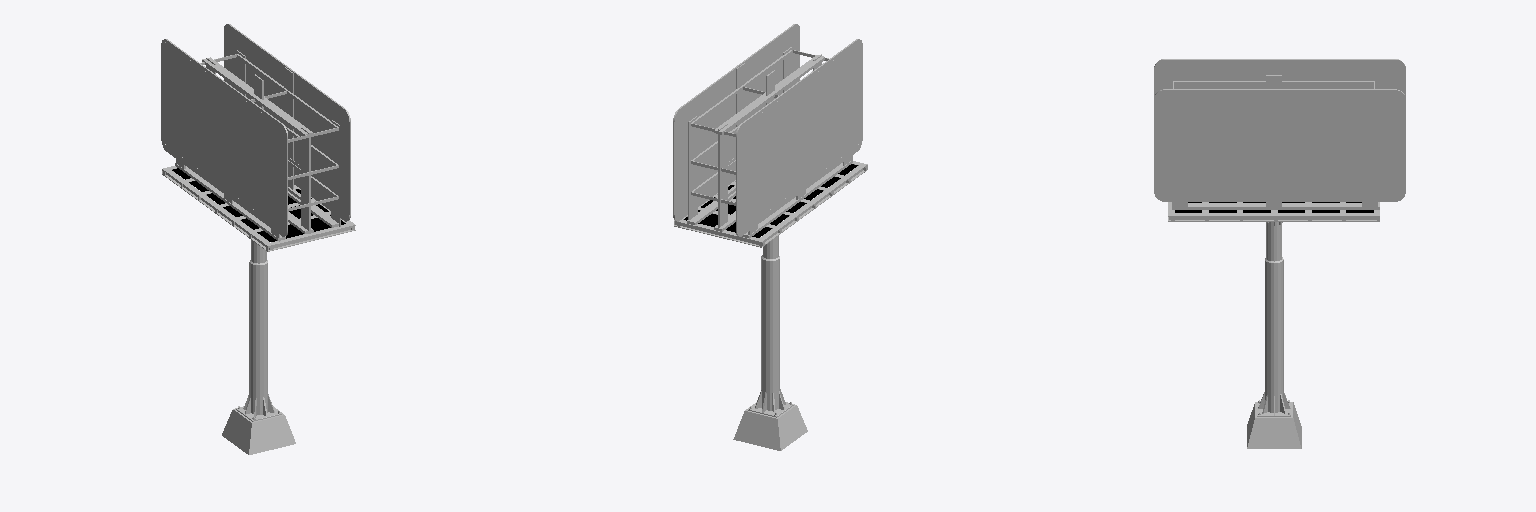
Rendered from road_sign1.obj.
3 views of the same model, side by side, from view 1: azimuth 30°, elevation 25°; view 2: azimuth 150°, elevation 25°; view 3: azimuth 270°, elevation 25° (orthographic).
Visible parts, largest first — view 1: Symmetry_1_3_Mesh.694; view 2: Symmetry_1_3_Mesh.694; view 3: Symmetry_1_3_Mesh.694.
Boxes of the visible parts, x1,y1,x2,y2 form: Symmetry_1_3_Mesh.694: [161, 24, 355, 454]; Symmetry_1_3_Mesh.694: [673, 24, 867, 450]; Symmetry_1_3_Mesh.694: [1154, 59, 1405, 448].
Bounding box in the file's own units: 2.08 × 8.2 × 5.15.